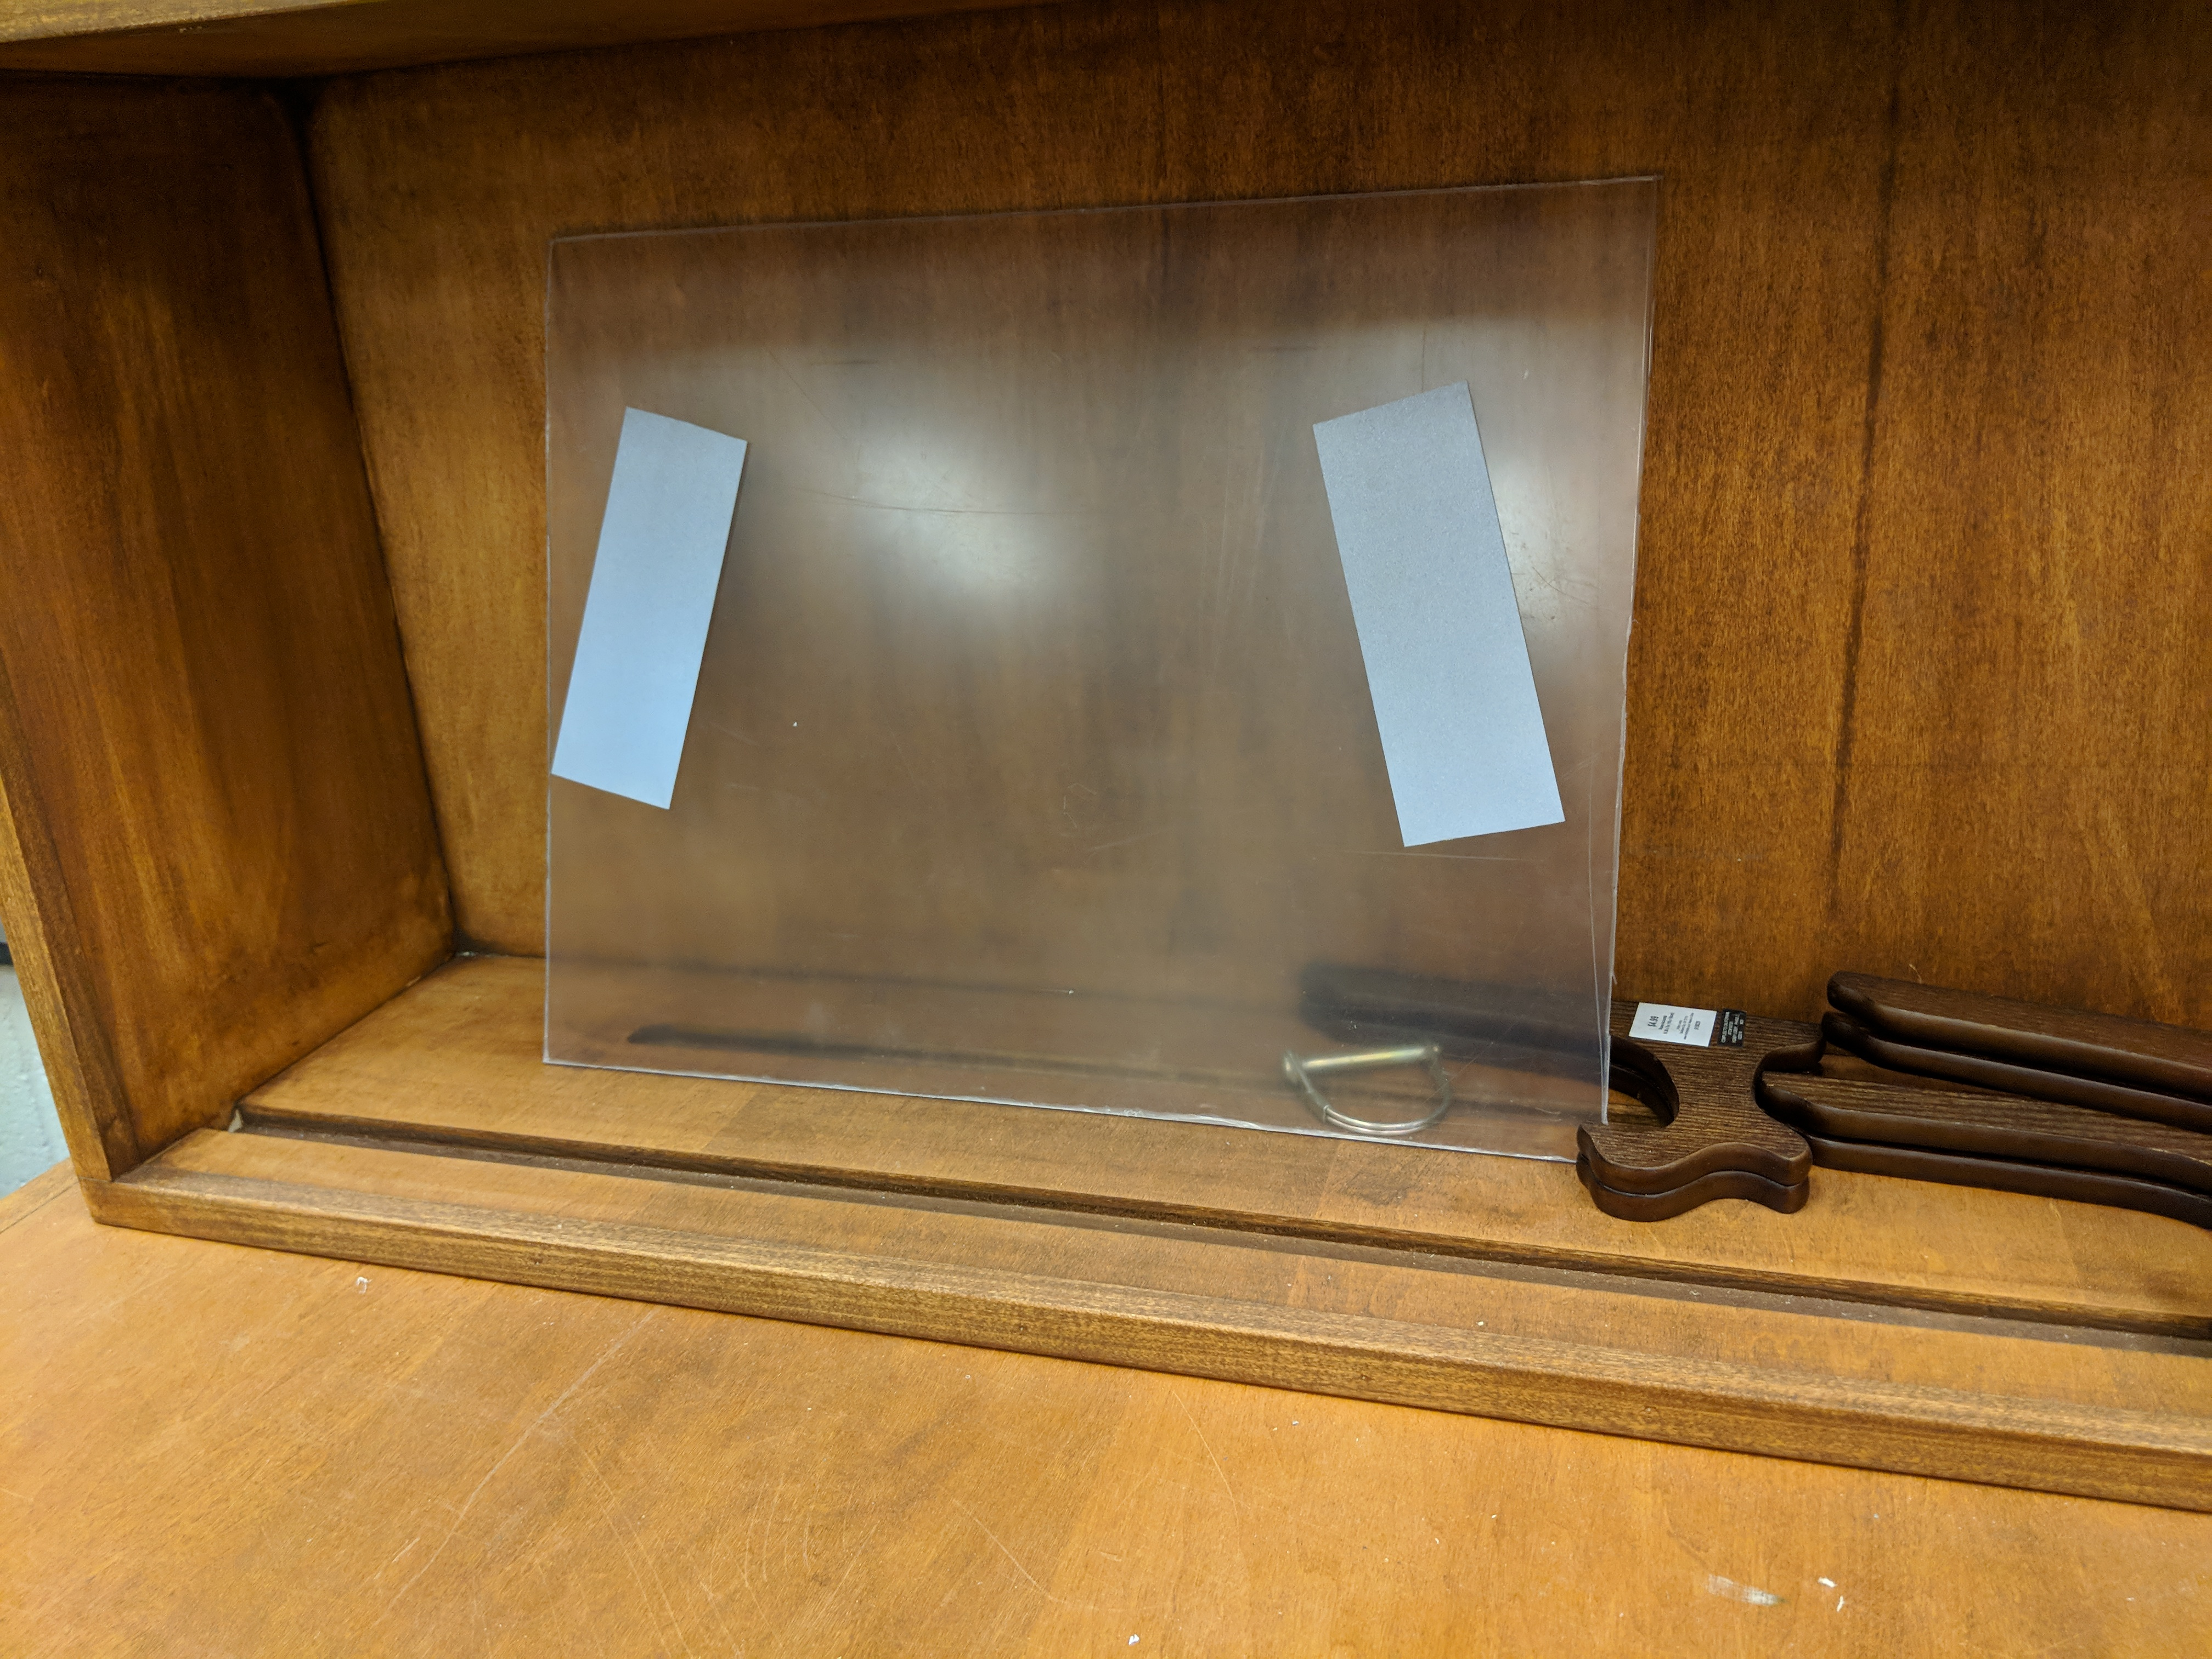vision_target: (535, 371, 1583, 873)
